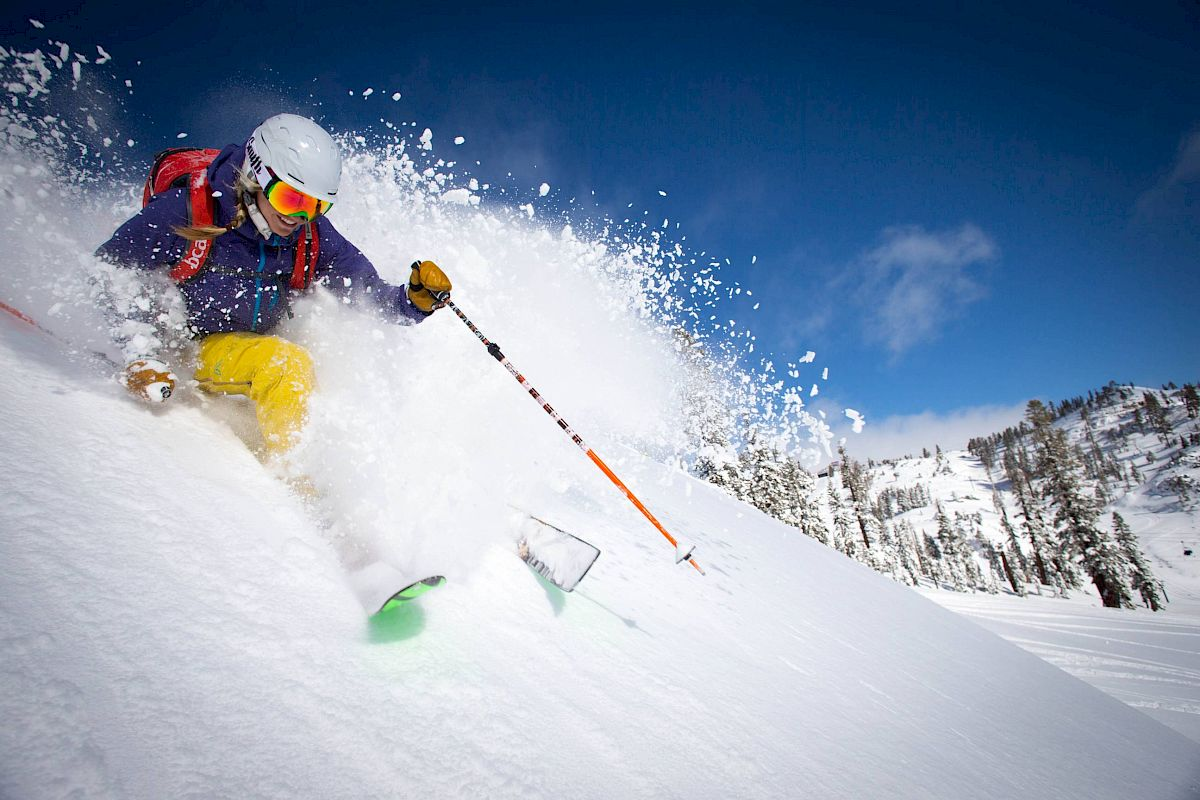skier: (1, 115, 712, 627)
